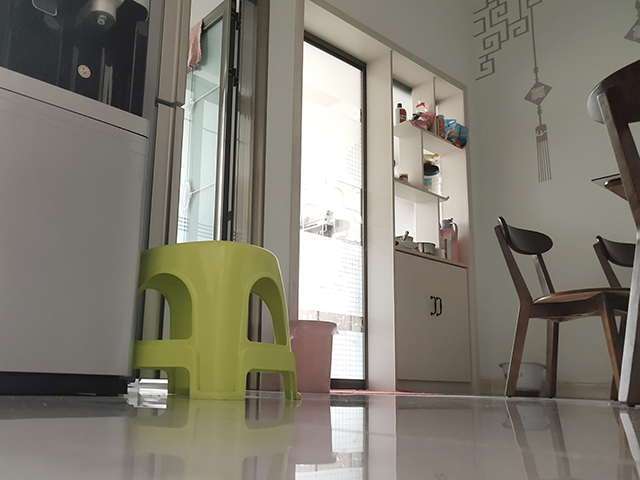cabinet: (373, 245, 481, 396)
carpet: (329, 388, 445, 396)
stool: (137, 238, 303, 403), (493, 213, 628, 403)
trashcan: (287, 318, 340, 395)
